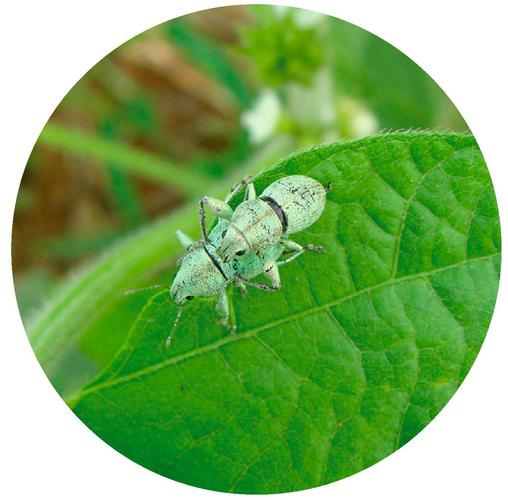Curculionidae: (123, 173, 328, 351), (176, 174, 326, 310)
